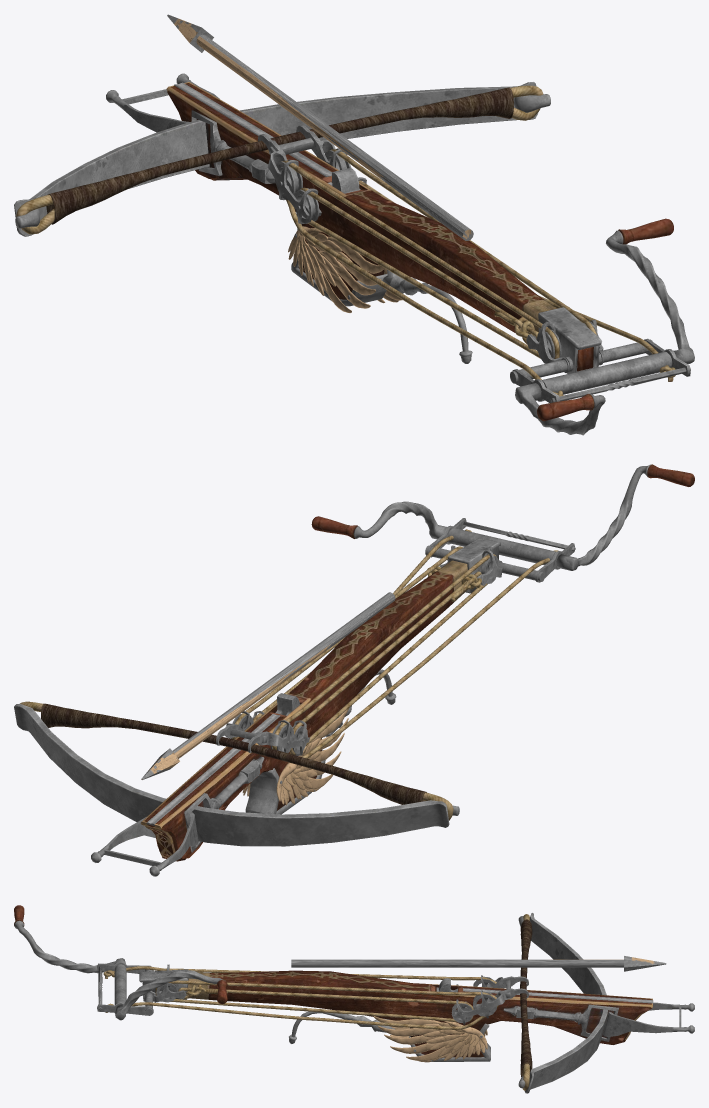
The model's file is weapon_crossbow.glb.
3 renders of one model, top to bottom at view 1: azimuth 30°, elevation 25°; view 2: azimuth 150°, elevation 25°; view 3: azimuth 270°, elevation 25°, orthographic. The views are drawn at different scales.
Parts seen in each view (by area): view 1: Receiver, Arrow; view 2: Receiver, Arrow; view 3: Receiver, Arrow.
Boxes of the visible parts, x1=… form: Receiver: x1=14, y1=73, x2=694, y2=435; Arrow: x1=167, y1=14, x2=473, y2=240; Receiver: x1=14, y1=464, x2=694, y2=876; Arrow: x1=141, y1=592, x2=395, y2=779; Receiver: x1=14, y1=905, x2=694, y2=1093; Arrow: x1=291, y1=956, x2=666, y2=971.
Bounding box in the file's own units: 0.4342 × 0.1393 × 0.7697.
Materials: 2 (2 with a texture image).
